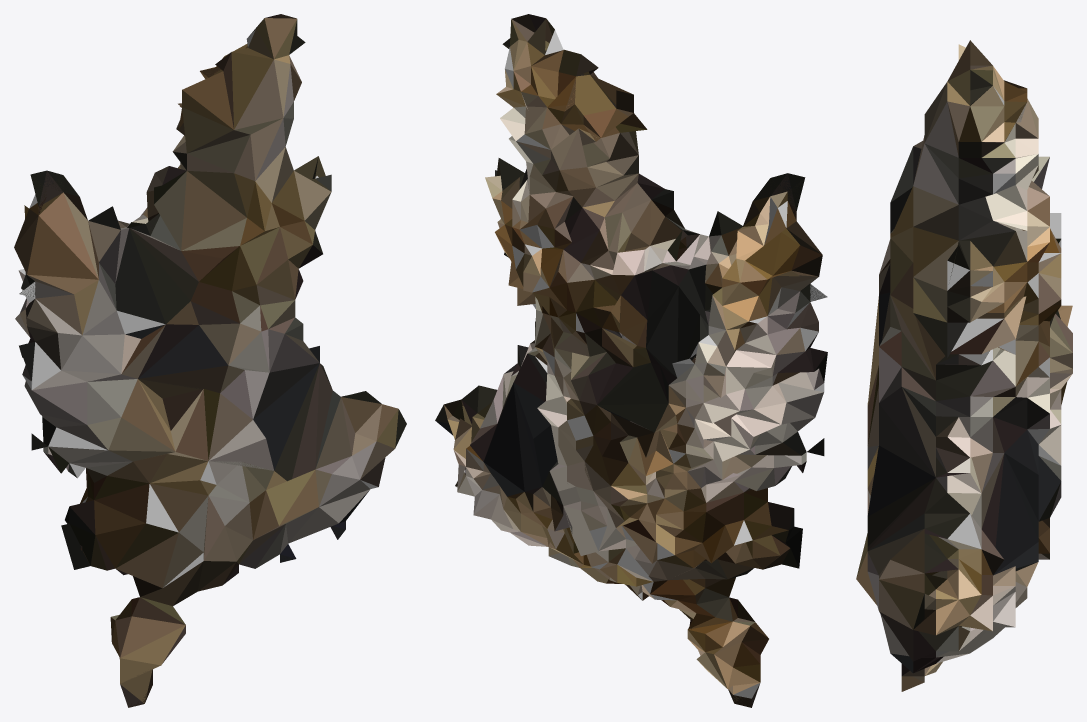
Rendered from B09_5_seraph_crossbow.obj.
The picture shows the model from 3 angles, left to right: view 1: azimuth 30°, elevation 25°; view 2: azimuth 150°, elevation 25°; view 3: azimuth 270°, elevation 25°; orthographic projection. The views are drawn at different scales.
Parts seen in each view (by area): view 1: B09_5_seraph_crossbow; view 2: B09_5_seraph_crossbow; view 3: B09_5_seraph_crossbow.
Part boxes in pixels (x1,y1,x2,y2): B09_5_seraph_crossbow: (14,14,406,707); B09_5_seraph_crossbow: (435,14,827,707); B09_5_seraph_crossbow: (856,40,1072,691).
Size of the model in its own units: 46 by 73 by 19.
